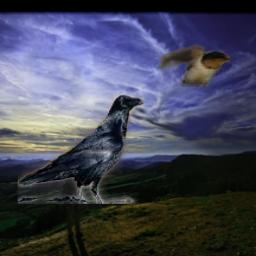Crow: (18, 94, 143, 204)
Swallow: (159, 45, 231, 88)
